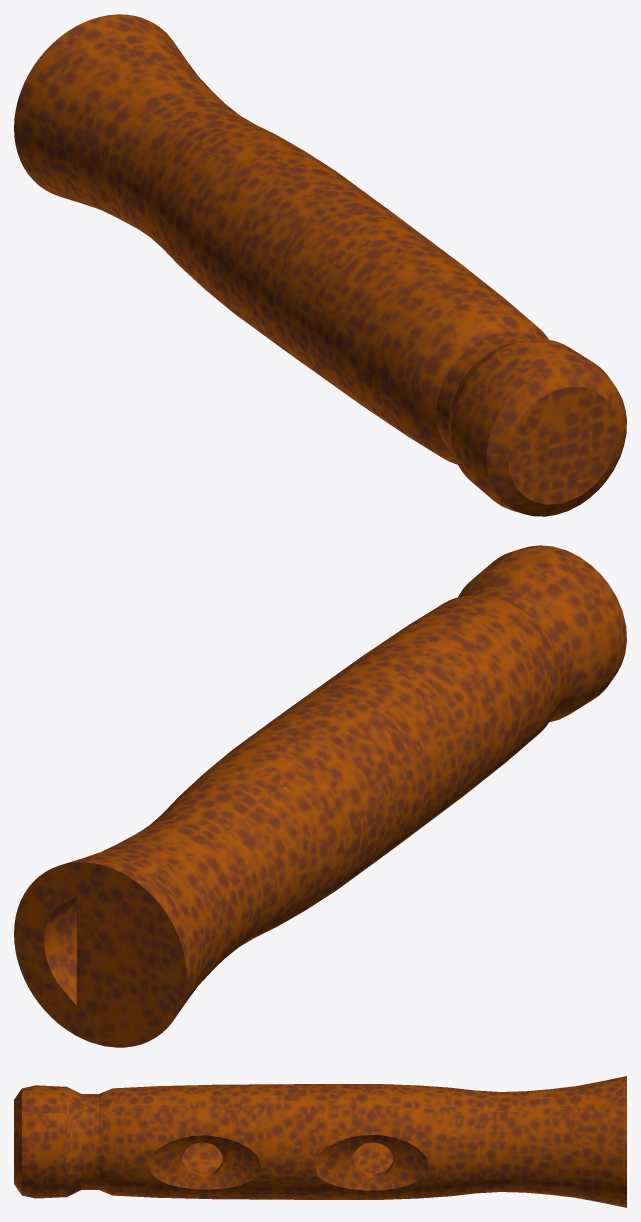
File: Duck_Call.fbx
3 views of the same model, one above another, from view 1: azimuth 30°, elevation 25°; view 2: azimuth 150°, elevation 25°; view 3: azimuth 270°, elevation 25° (orthographic). The views are drawn at different scales.
Parts seen in each view (by area): view 1: Default_2; view 2: Default_2; view 3: Default_2.
Boxes of the visible parts, <box> form: Default_2: <box>14,14,626,516</box>; Default_2: <box>14,545,626,1047</box>; Default_2: <box>14,1076,626,1207</box>.
Bounding box in the file's own units: 1.82 × 1.82 × 8.45.
Materials: 1 (1 with a texture image).
